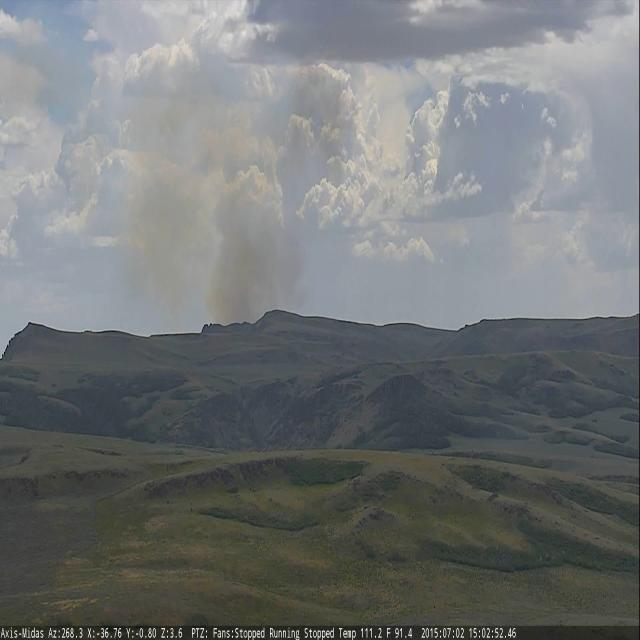smoke: (130, 134, 303, 318)
